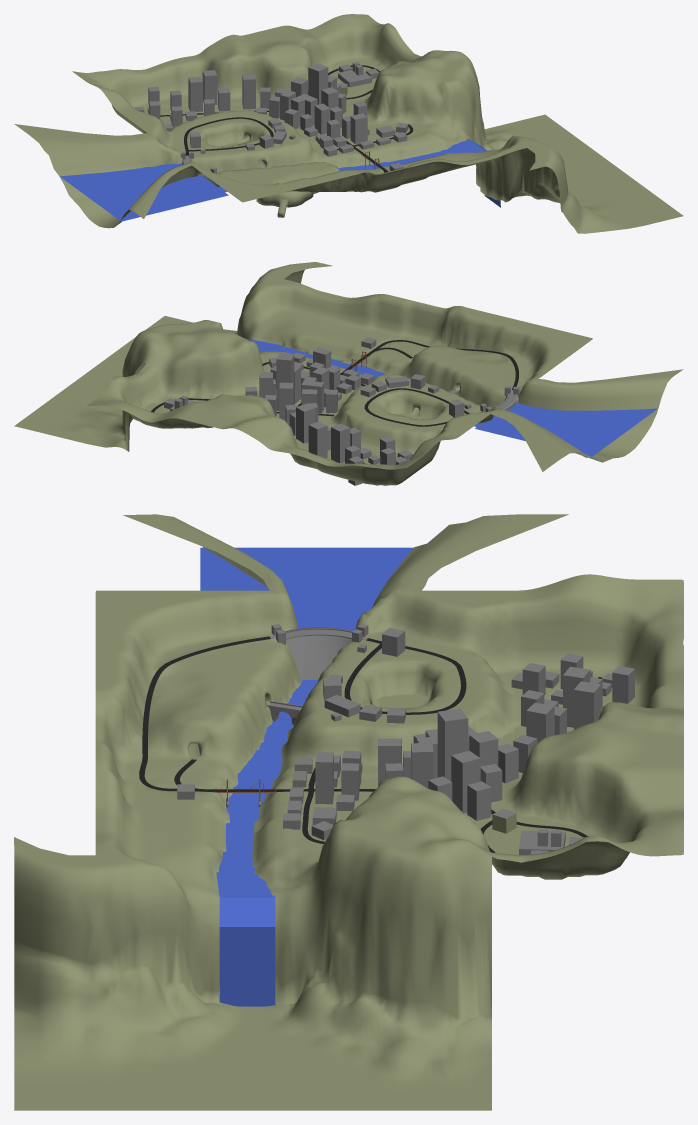
File: Bigmap.dae
3 renders of one model, top to bottom at view 1: azimuth 30°, elevation 25°; view 2: azimuth 150°, elevation 25°; view 3: azimuth 270°, elevation 25°, orthographic. The views are drawn at different scales.
Parts seen in each view (by area): view 1: Plane.004; view 2: Plane.004; view 3: Plane.004.
Part boxes in pixels (box(x1,y1,x2,y2)): Plane.004: box(14, 14, 683, 233); Plane.004: box(14, 262, 683, 485); Plane.004: box(14, 514, 683, 1110).
Size of the model in its own units: 5160 by 3420 by 1154.
